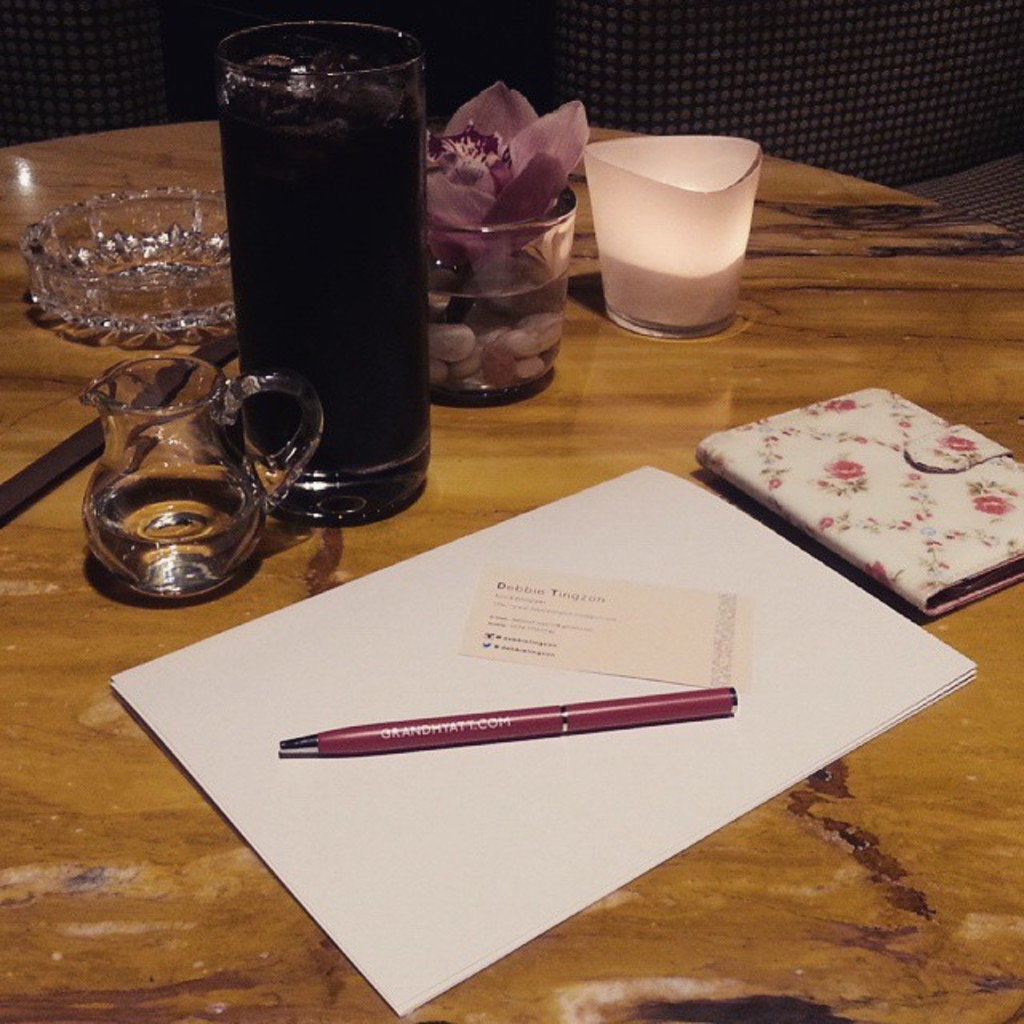Pen: (278, 672, 743, 772)
